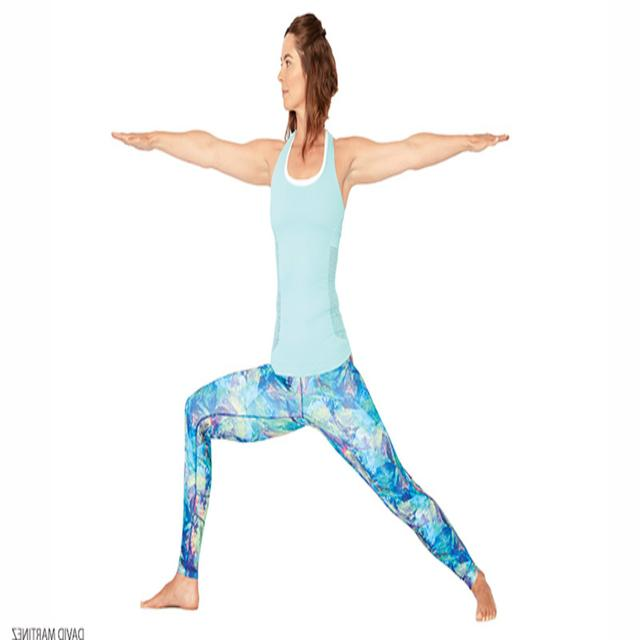Warrior_II: (108, 15, 510, 621)
